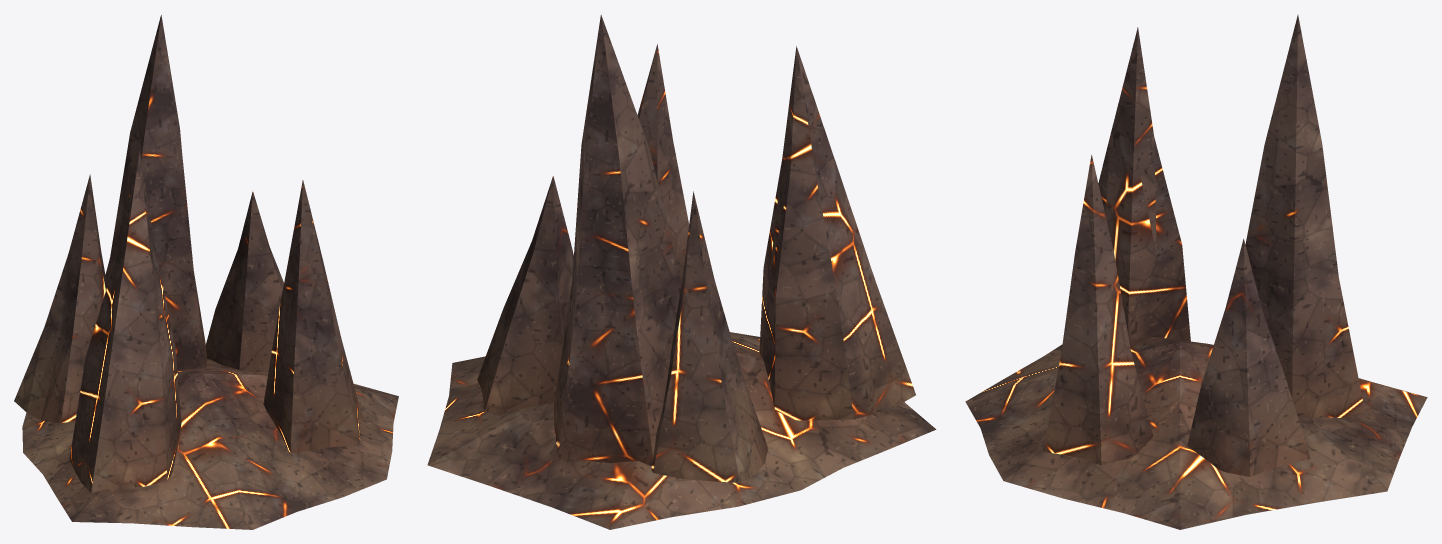
File: lava_spikes.glb
3 views of the same model, side by side, from view 1: azimuth 30°, elevation 25°; view 2: azimuth 150°, elevation 25°; view 3: azimuth 270°, elevation 25° (orthographic). The views are drawn at different scales.
Visible parts, largest first — view 1: lava_spikes; view 2: lava_spikes; view 3: lava_spikes.
Boxes of the visible parts, x1,y1,x2,y2 form: lava_spikes: [14, 15, 398, 529]; lava_spikes: [427, 14, 936, 529]; lava_spikes: [965, 15, 1427, 529].
Size of the model in its own units: 5.65 by 5.62 by 5.6.
1 material, 1 textured.
